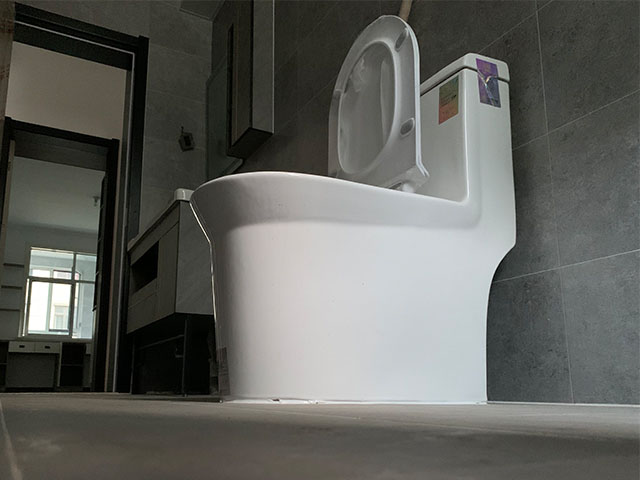cabinet: (122, 188, 219, 396), (1, 338, 92, 391)
closestool: (188, 11, 518, 407)
